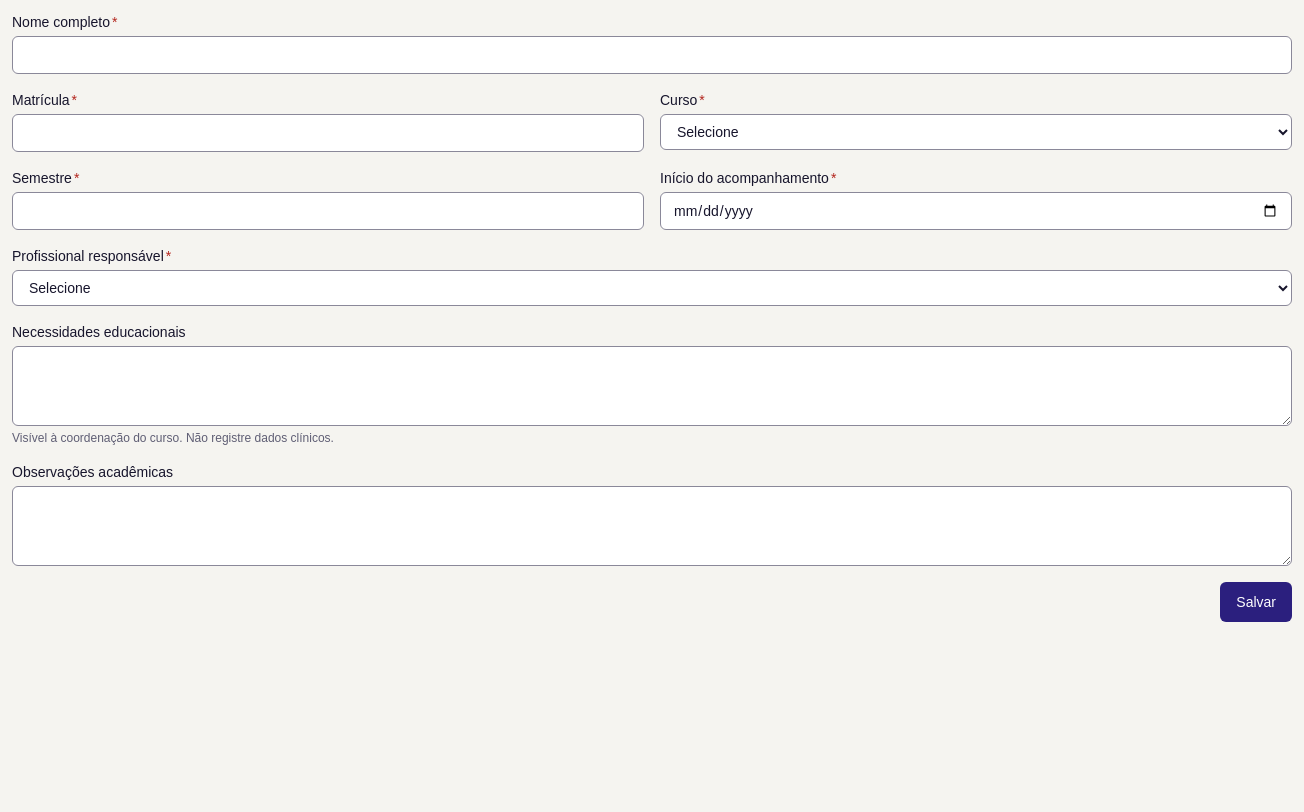
Test case: AlunoForm › erros_do_servidor_aparecem_nos_campos_e_preenchimento_e_mantido
Type "Maria Clara Souza" into the field labelled "Nome completo*" at (652, 55), box [12,36,1292,74]
Type "2026.0001" into the field labelled "Matrícula*" at (328, 133), box [12,114,644,152]
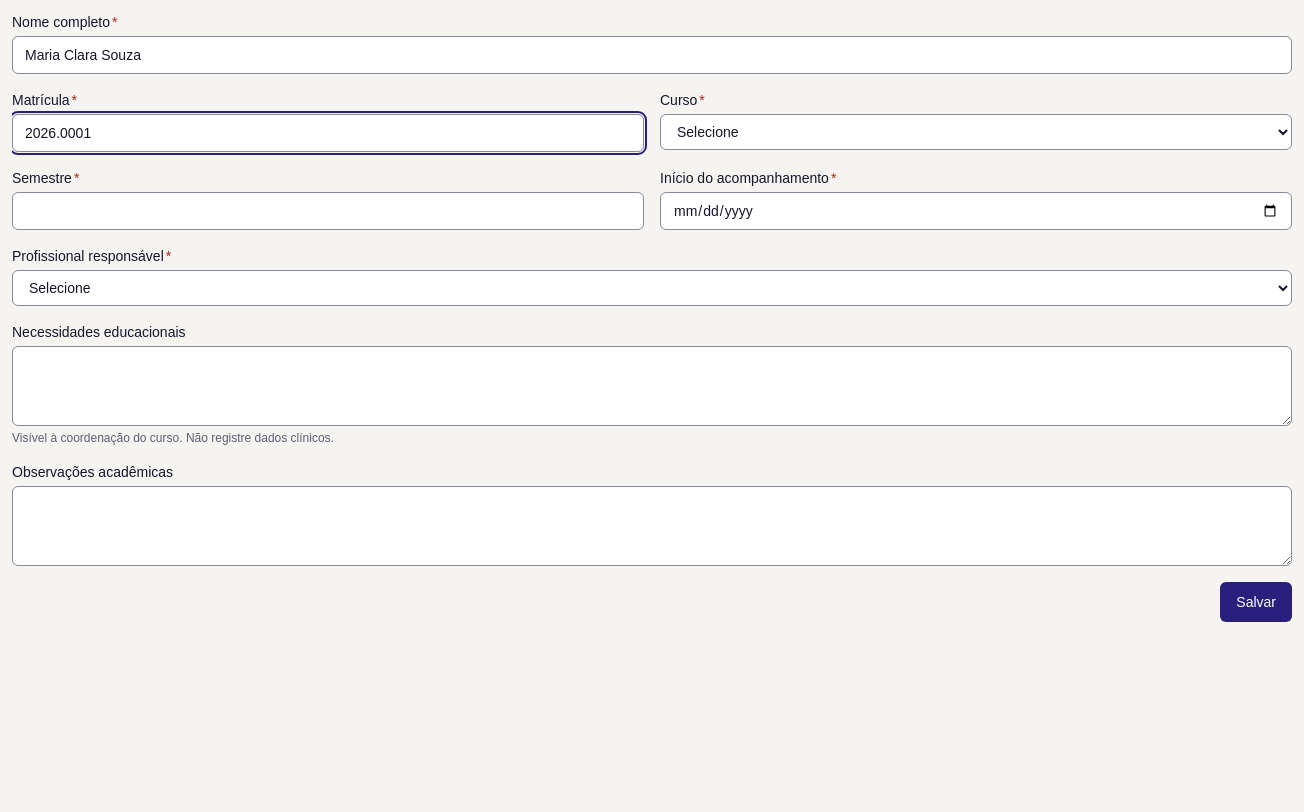
Select "Direito" in the dropdown labelled "Curso*" at (976, 132), box [660,114,1292,150]
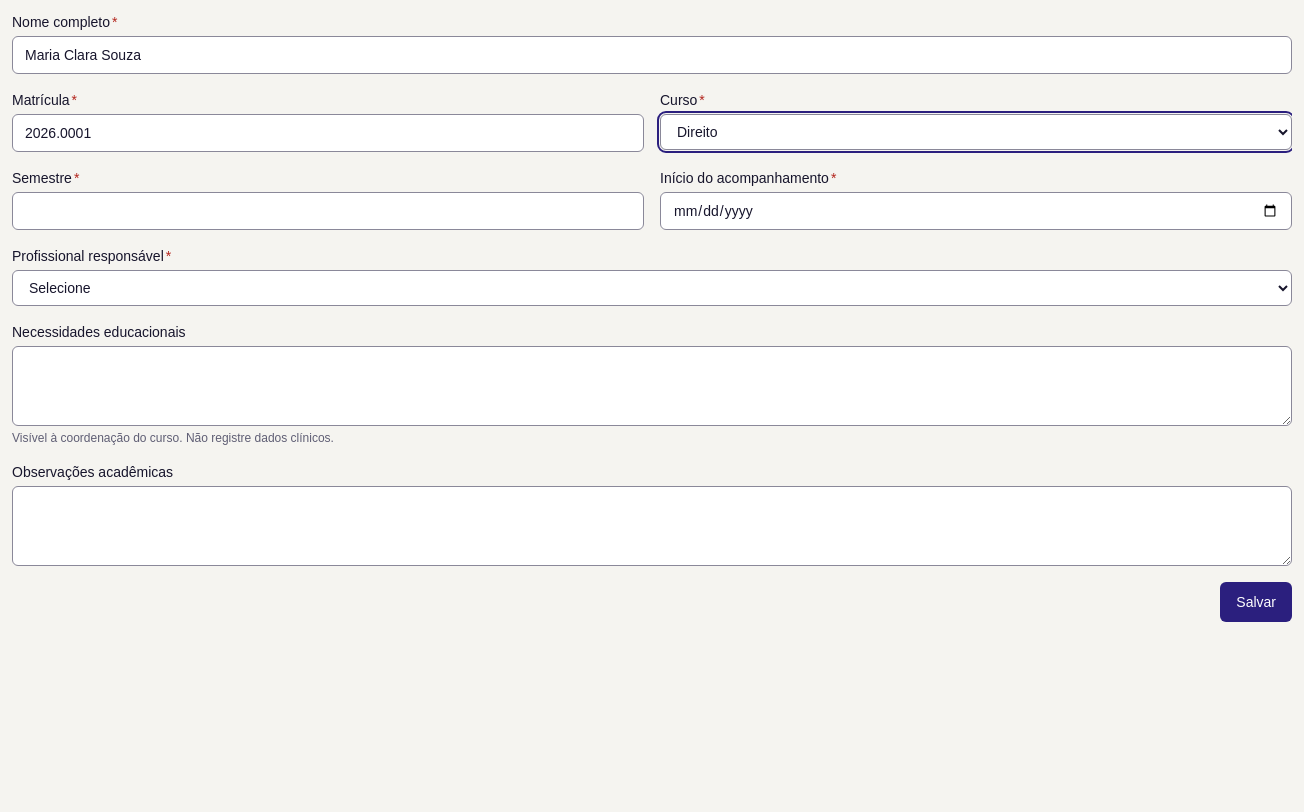
Type "3" into the number field labelled "Semestre*" at (328, 211), box [12,192,644,230]
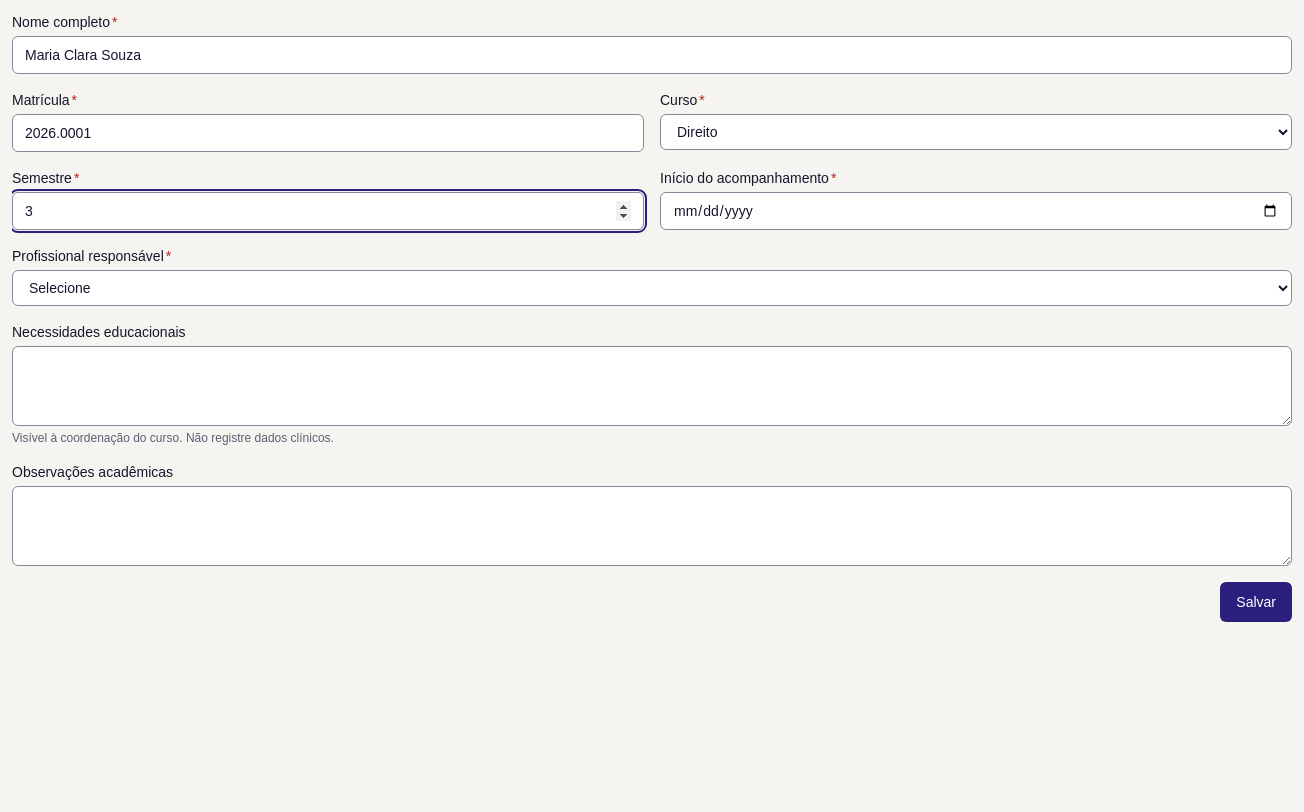
Type "2026-03-02" into the date field labelled "Início do acompanhamento*" at (976, 211), box [660,192,1292,230]
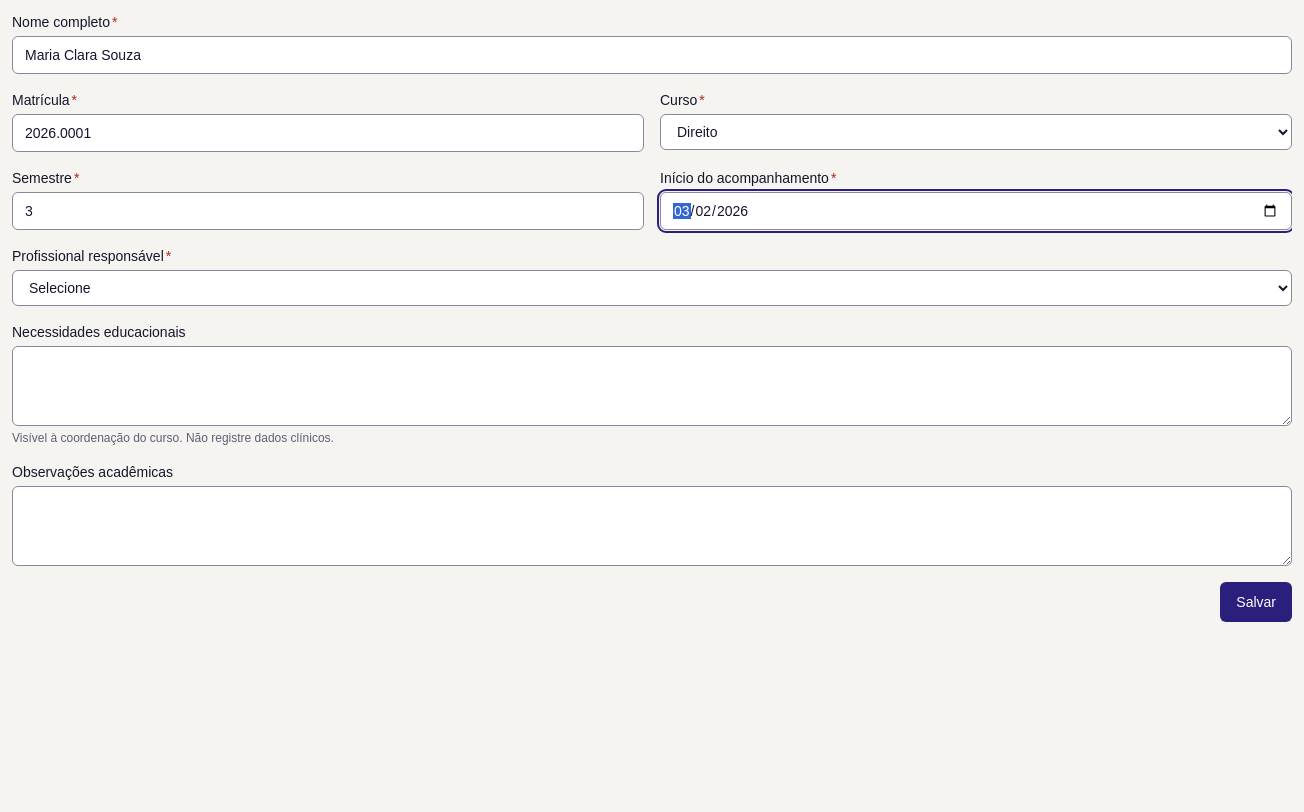
Select "Ana Souza" in the dropdown labelled "Profissional responsável*" at (652, 288), box [12,270,1292,306]
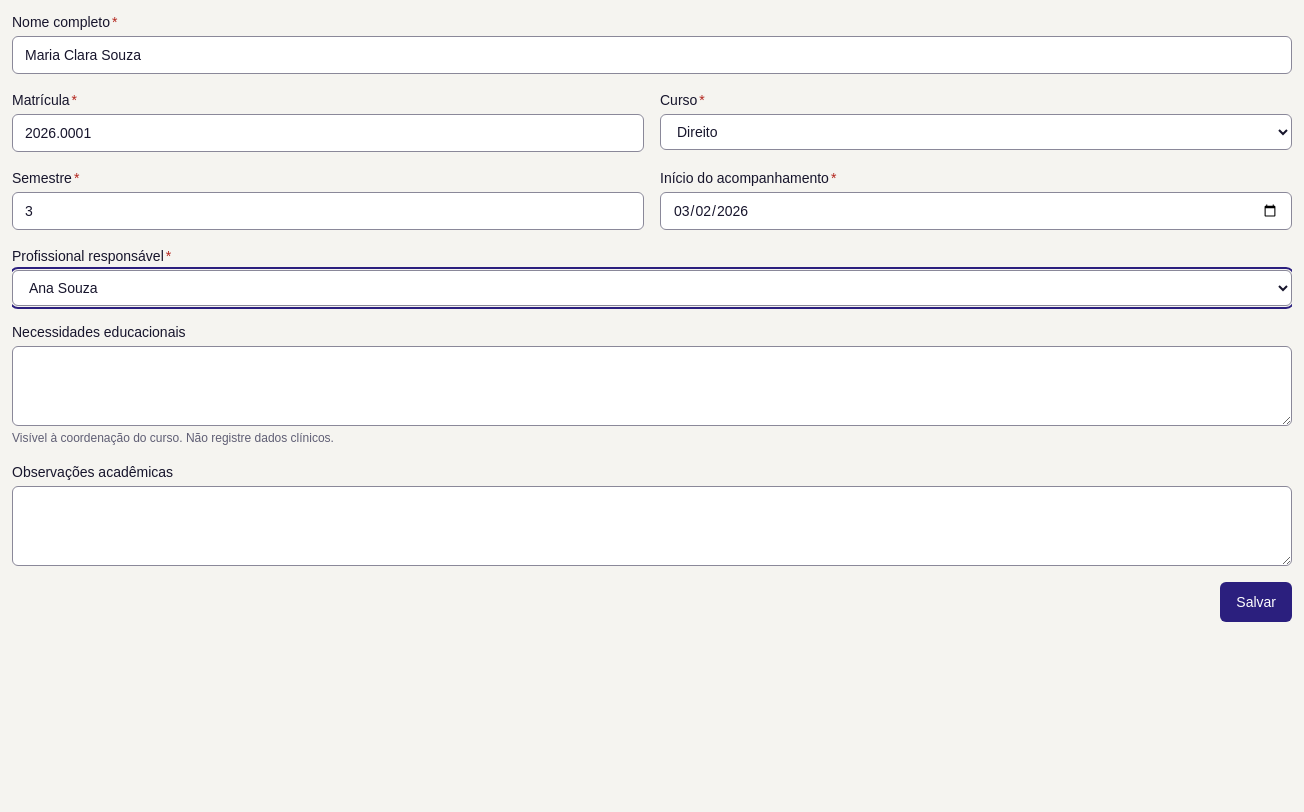
Click the button "Salvar" at (1256, 602), box [1220,582,1292,622]
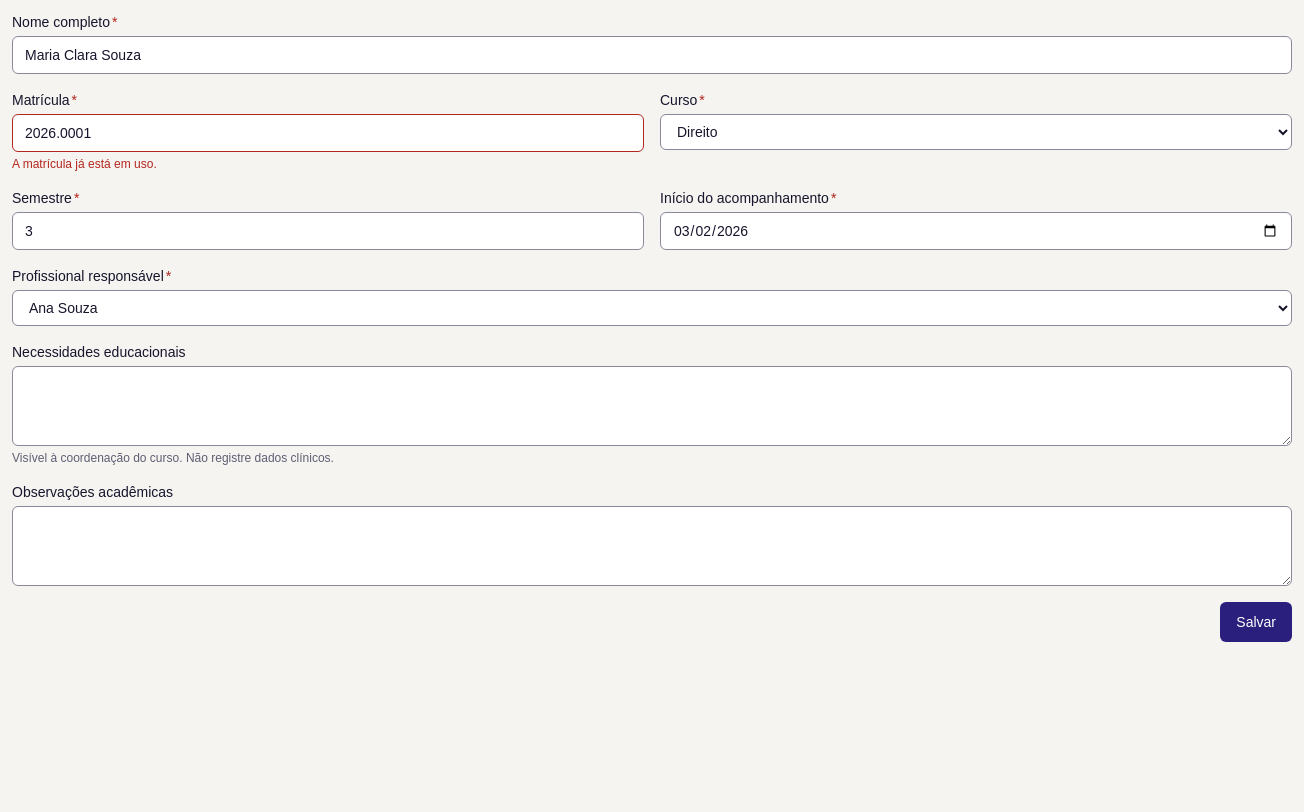
Now the text "A matrícula já está em uso." is shown, box [12,157,157,171]
